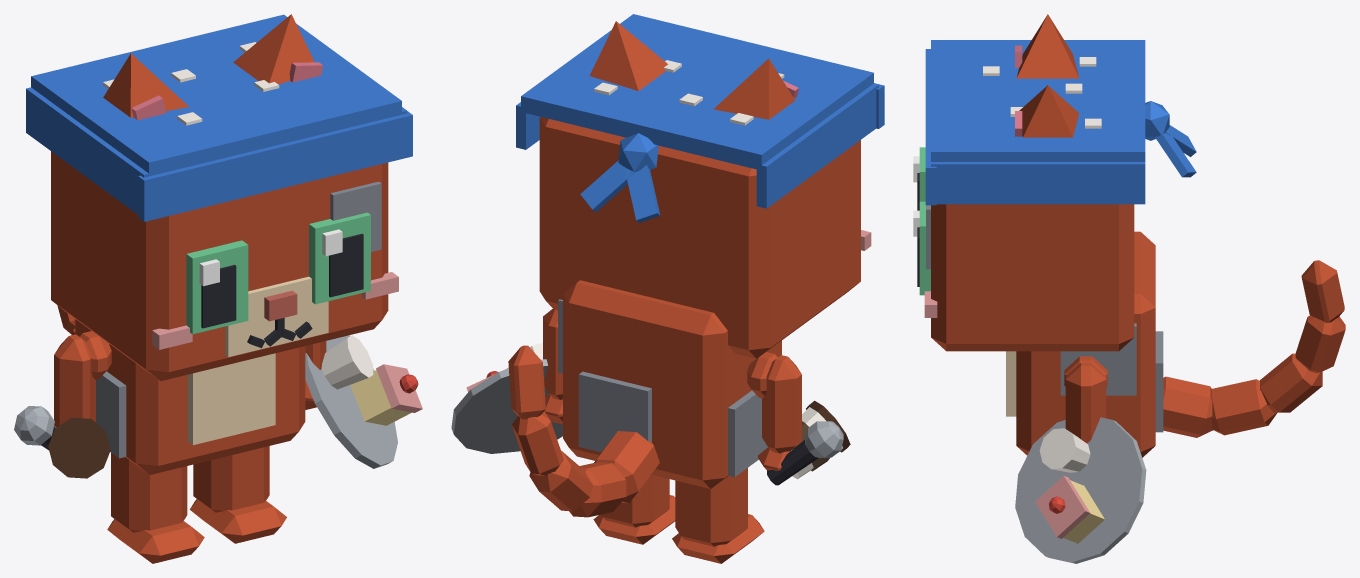
Rendered from CatCafe_Cat_Rusty_Work.glb.
3 renders of one model, left to right at view 1: azimuth 30°, elevation 25°; view 2: azimuth 150°, elevation 25°; view 3: azimuth 270°, elevation 25°, orthographic. The views are drawn at different scales.
Visible parts, largest first — view 1: CatCafe_Cat_Rusty_Work_Prop, CatCafe_Cat_Rusty_Work_Head, CatCafe_Cat_Rusty_Work_Body, CatCafe_Cat_Rusty_Work_Held_Waiter, CatCafe_Cat_Rusty_Work_LegB2, CatCafe_Cat_Rusty_Work_LegB1, CatCafe_Cat_Rusty_Work_Eye2, CatCafe_Cat_Rusty_Work_Eye1, CatCafe_Cat_Rusty_Work_EarL, CatCafe_Cat_Rusty_Work_LegF2, CatCafe_Cat_Rusty_Work_Held_Barista, CatCafe_Cat_Rusty_Work_EarR (+2 smaller); view 2: CatCafe_Cat_Rusty_Work_Head, CatCafe_Cat_Rusty_Work_Prop, CatCafe_Cat_Rusty_Work_Body, CatCafe_Cat_Rusty_Work_Tail, CatCafe_Cat_Rusty_Work_LegB2, CatCafe_Cat_Rusty_Work_Held_Waiter, CatCafe_Cat_Rusty_Work_LegF2, CatCafe_Cat_Rusty_Work_LegB1, CatCafe_Cat_Rusty_Work_EarL, CatCafe_Cat_Rusty_Work_EarR, CatCafe_Cat_Rusty_Work_Held_Entertainer, CatCafe_Cat_Rusty_Work_LegF1 (+1 smaller); view 3: CatCafe_Cat_Rusty_Work_Prop, CatCafe_Cat_Rusty_Work_Head, CatCafe_Cat_Rusty_Work_Held_Waiter, CatCafe_Cat_Rusty_Work_Body, CatCafe_Cat_Rusty_Work_Tail, CatCafe_Cat_Rusty_Work_LegF1, CatCafe_Cat_Rusty_Work_EarR, CatCafe_Cat_Rusty_Work_EarL, CatCafe_Cat_Rusty_Work_Eye1, CatCafe_Cat_Rusty_Work_Eye2.
Part boxes in pixels (<box>): CatCafe_Cat_Rusty_Work_Prop: <box>26,14,412,221</box>; CatCafe_Cat_Rusty_Work_Head: <box>51,151,398,381</box>; CatCafe_Cat_Rusty_Work_Body: <box>75,319,305,474</box>; CatCafe_Cat_Rusty_Work_Held_Waiter: <box>305,335,422,468</box>; CatCafe_Cat_Rusty_Work_LegB2: <box>107,453,204,563</box>; CatCafe_Cat_Rusty_Work_LegB1: <box>190,446,286,543</box>; CatCafe_Cat_Rusty_Work_Eye2: <box>186,240,248,334</box>; CatCafe_Cat_Rusty_Work_Eye1: <box>309,212,370,304</box>; CatCafe_Cat_Rusty_Work_EarL: <box>233,14,322,84</box>; CatCafe_Cat_Rusty_Work_LegF2: <box>54,334,95,427</box>; CatCafe_Cat_Rusty_Work_Held_Barista: <box>48,417,110,478</box>; CatCafe_Cat_Rusty_Work_EarR: <box>103,53,188,120</box>; CatCafe_Cat_Rusty_Work_Head: <box>539,117,871,358</box>; CatCafe_Cat_Rusty_Work_Prop: <box>516,14,884,222</box>; CatCafe_Cat_Rusty_Work_Body: <box>558,280,781,488</box>; CatCafe_Cat_Rusty_Work_Tail: <box>508,345,659,517</box>; CatCafe_Cat_Rusty_Work_LegB2: <box>672,468,764,563</box>; CatCafe_Cat_Rusty_Work_Held_Waiter: <box>451,342,562,453</box>; CatCafe_Cat_Rusty_Work_LegF2: <box>758,355,801,470</box>; CatCafe_Cat_Rusty_Work_LegB1: <box>593,474,675,544</box>; CatCafe_Cat_Rusty_Work_EarL: <box>589,21,667,90</box>; CatCafe_Cat_Rusty_Work_EarR: <box>713,58,798,119</box>; CatCafe_Cat_Rusty_Work_Held_Entertainer: <box>767,421,843,485</box>; CatCafe_Cat_Rusty_Work_LegF1: <box>543,309,562,424</box>; CatCafe_Cat_Rusty_Work_Prop: <box>925,40,1196,205</box>; CatCafe_Cat_Rusty_Work_Head: <box>924,204,1134,351</box>; CatCafe_Cat_Rusty_Work_Held_Waiter: <box>1015,417,1146,563</box>; CatCafe_Cat_Rusty_Work_Body: <box>1006,231,1163,457</box>; CatCafe_Cat_Rusty_Work_Tail: <box>1163,260,1345,437</box>; CatCafe_Cat_Rusty_Work_LegF1: <box>1065,362,1106,443</box>; CatCafe_Cat_Rusty_Work_EarR: <box>1015,14,1079,78</box>; CatCafe_Cat_Rusty_Work_EarL: <box>1015,85,1079,137</box>; CatCafe_Cat_Rusty_Work_Eye1: <box>913,201,930,295</box>; CatCafe_Cat_Rusty_Work_Eye2: <box>913,147,925,210</box>.
Bounding box in the file's own units: 1.53 × 1.93 × 1.62.
1 material, 1 textured.
